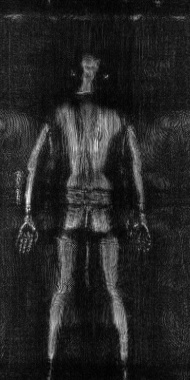gun: (9, 171, 26, 207)
